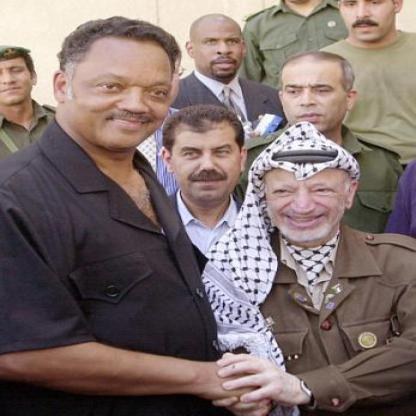face: (67, 28, 178, 152), (265, 141, 351, 245), (171, 110, 245, 205), (282, 55, 349, 136), (195, 16, 247, 80), (339, 1, 397, 43), (1, 49, 34, 106)
